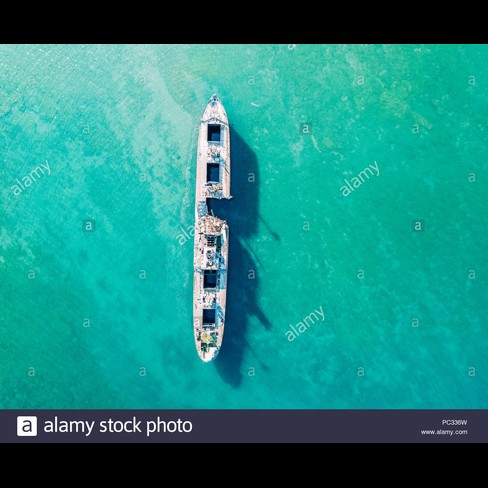boat: (182, 88, 237, 365)
